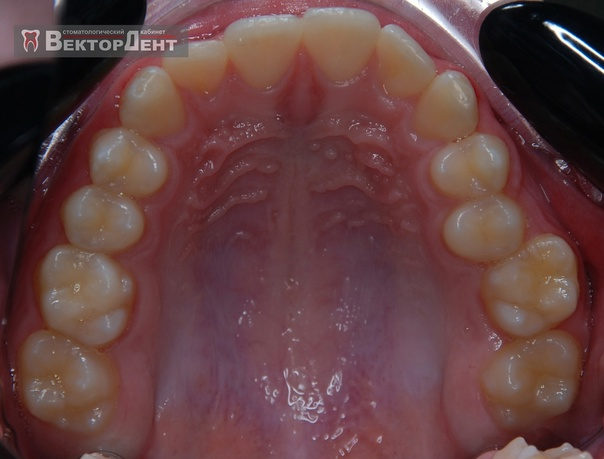UL1BC_healthy: (434, 130, 501, 197)
UL1M_healthy: (477, 232, 579, 341)
UL2BC_healthy: (438, 202, 526, 260)
UL2M_healthy: (481, 332, 583, 432)
ULCI_healthy: (303, 6, 373, 89)
ULC_healthy: (410, 72, 469, 147)
ULLI_healthy: (374, 17, 433, 99)
UR1BC_healthy: (93, 128, 168, 196)
UR1M_healthy: (38, 247, 137, 345)
UR2BC_healthy: (61, 183, 144, 251)
UR2M_healthy: (20, 330, 116, 434)
URCI_healthy: (231, 10, 301, 86)
URC_healthy: (124, 70, 186, 141)
URLI_healthy: (170, 40, 228, 95)
